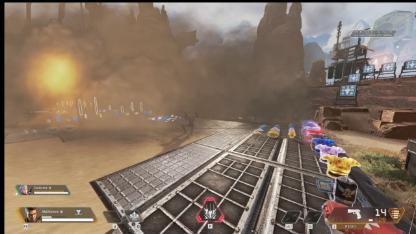Target: (180, 109, 198, 135)
